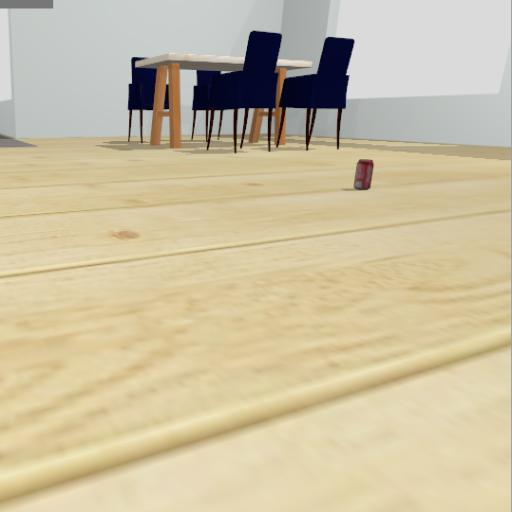COCA: (338, 138, 392, 213)
